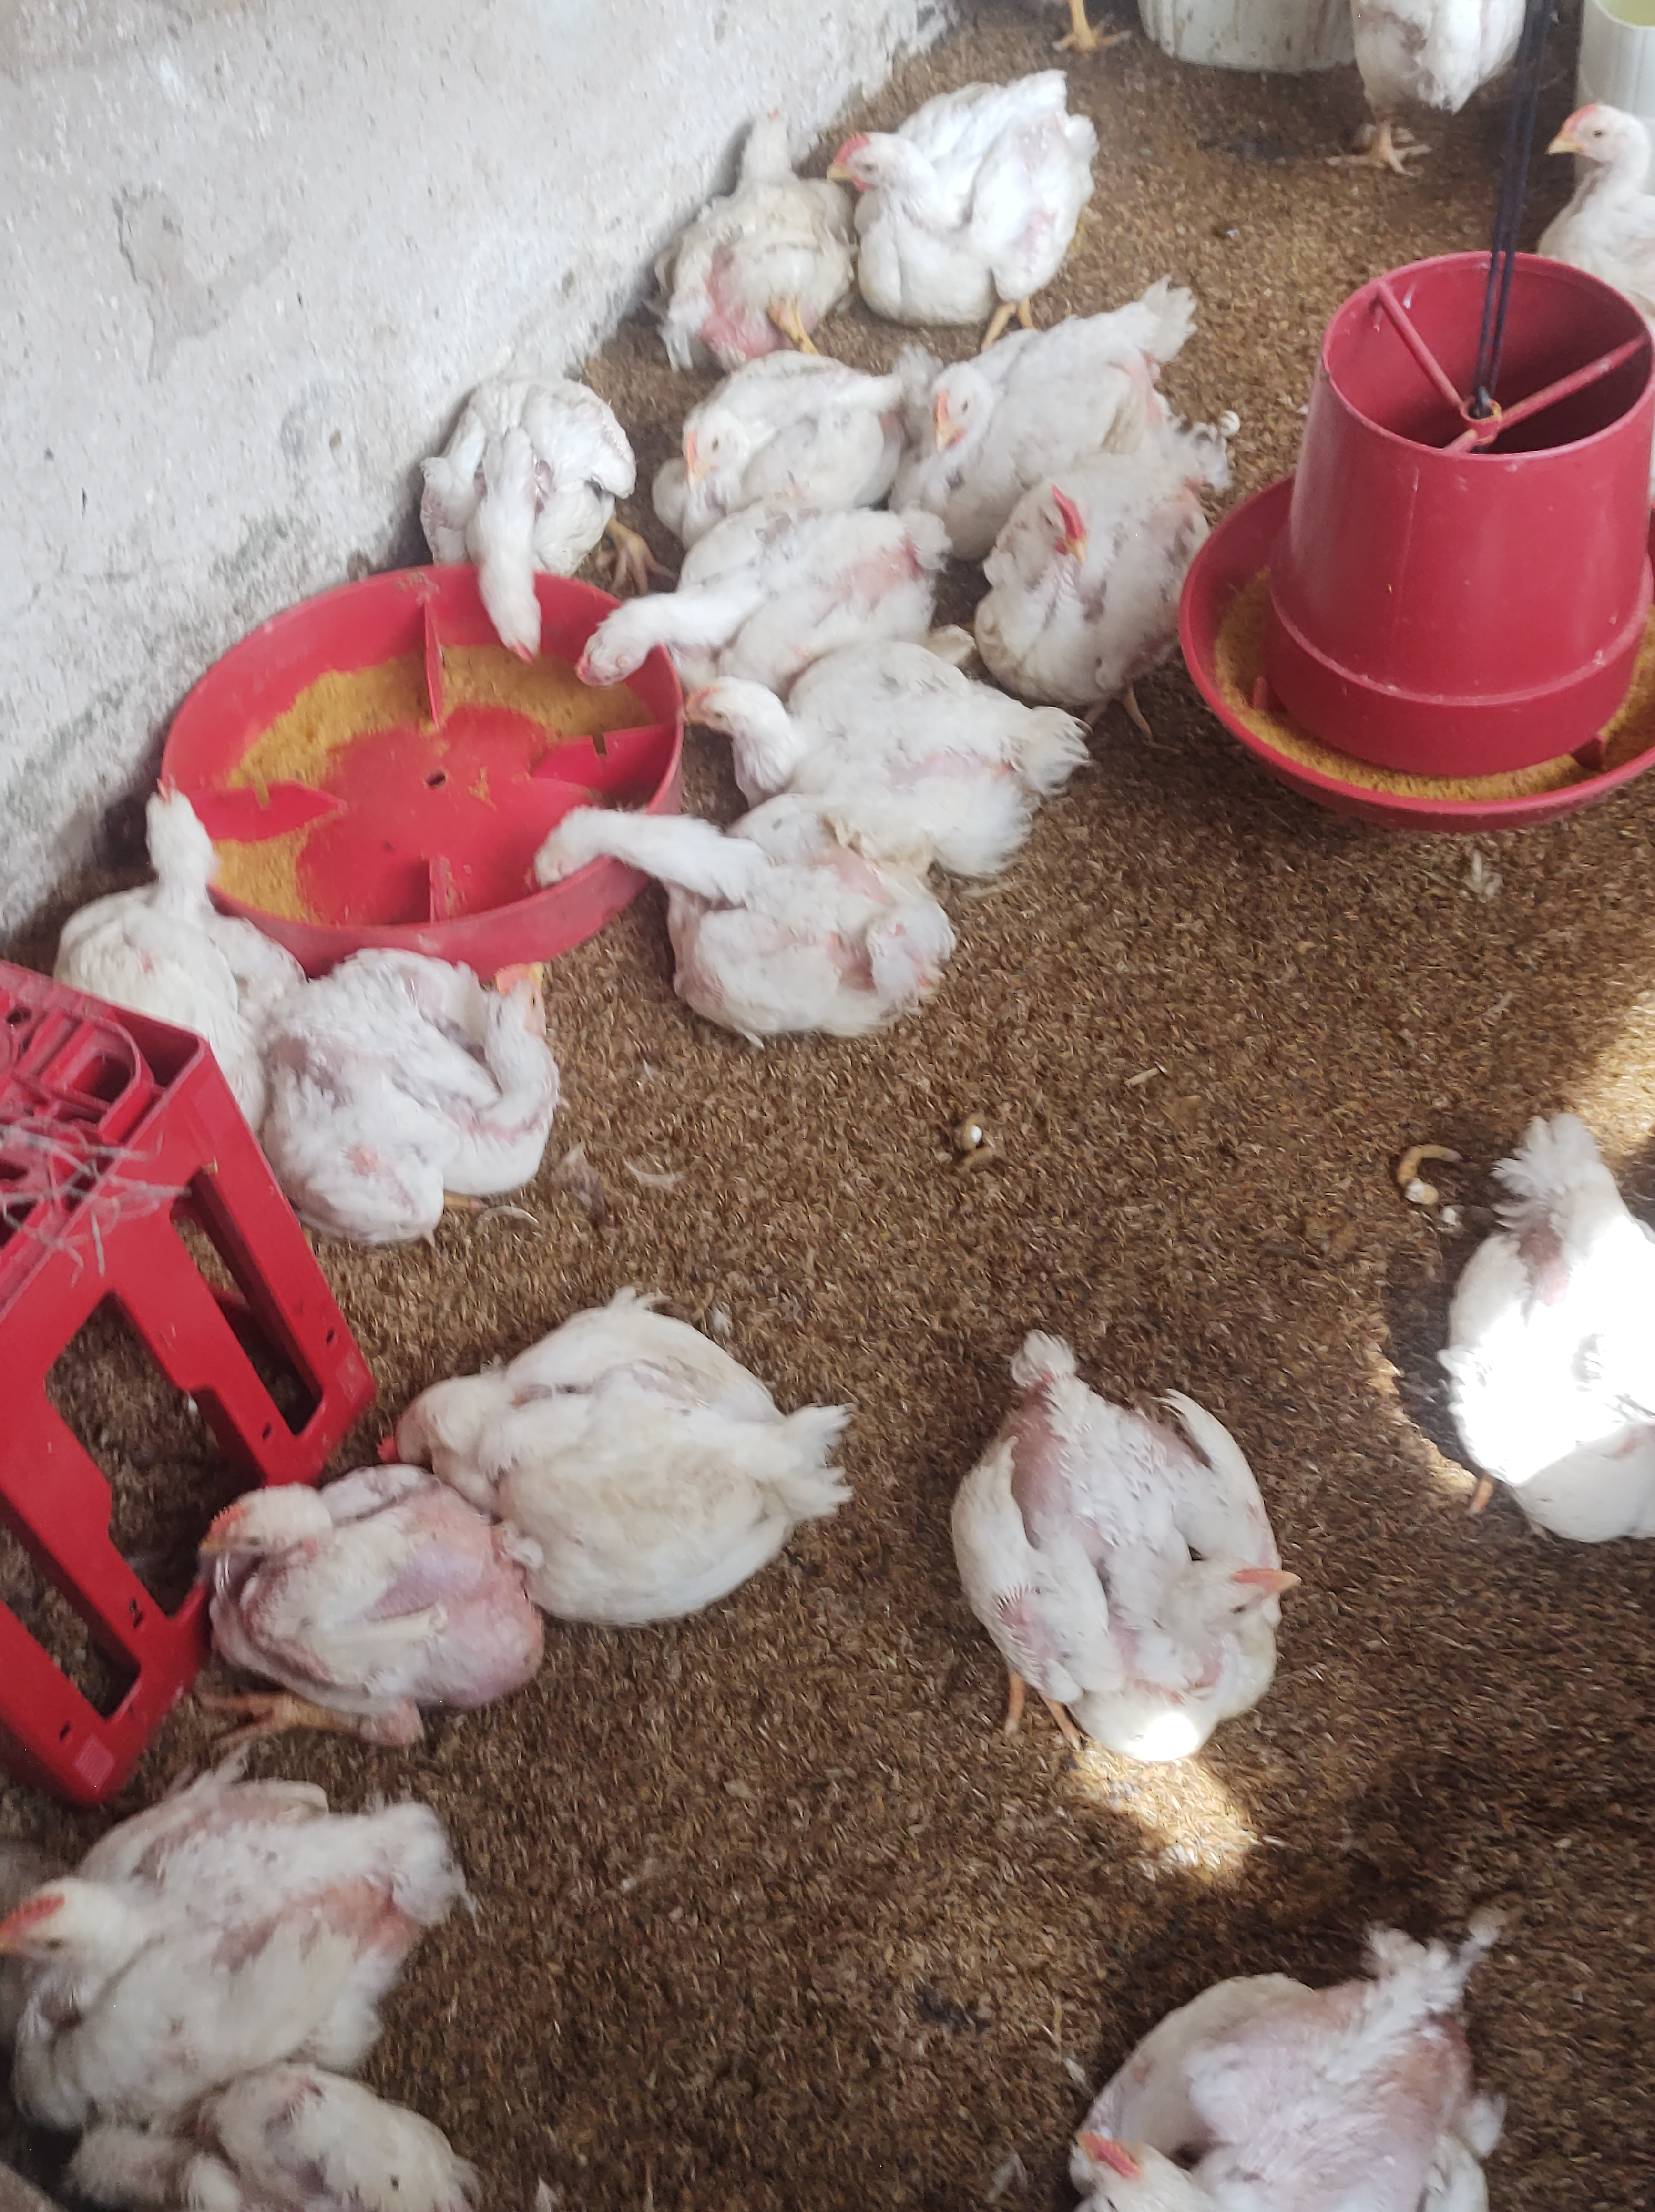Pollos: (920, 1304, 1332, 1770), (342, 1280, 852, 1635), (0, 1770, 508, 2101), (1399, 1097, 1655, 1708), (1036, 1902, 1502, 2212), (513, 786, 958, 1063), (250, 908, 570, 1266), (153, 1456, 570, 1727), (701, 645, 1062, 913), (584, 490, 968, 708), (850, 56, 1116, 369), (410, 301, 619, 680), (974, 412, 1253, 692), (71, 2028, 483, 2212), (56, 776, 250, 1130), (883, 289, 1208, 483), (636, 110, 855, 377), (645, 344, 909, 543), (1309, 0, 1525, 174), (1516, 94, 1655, 316), (1048, 0, 1154, 61)
